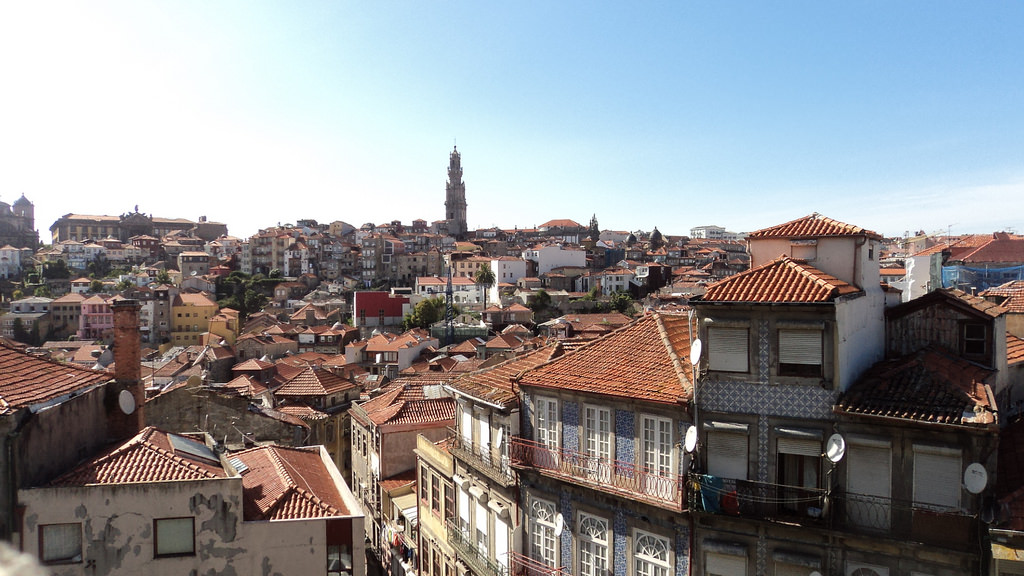clerigos: (442, 138, 467, 240)
